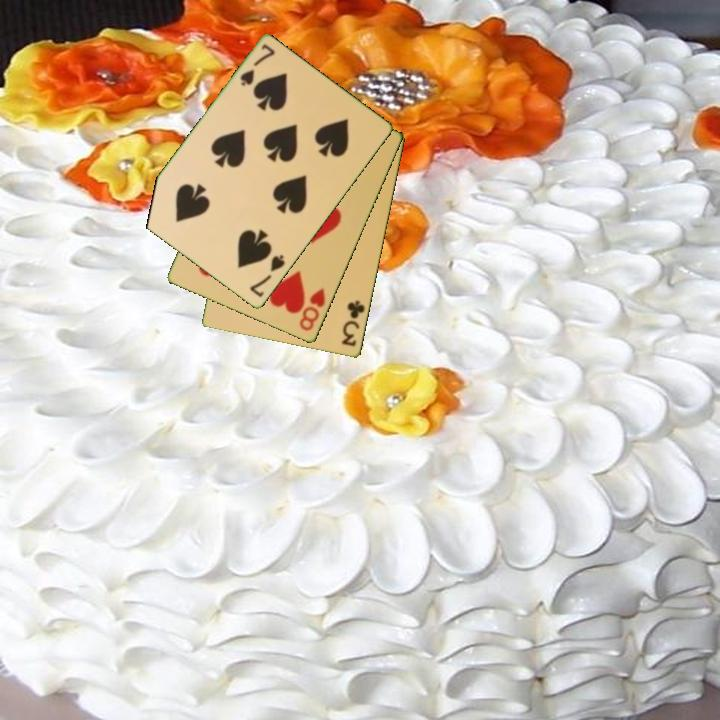3c: (338, 297, 368, 350)
7s: (246, 251, 288, 301), (236, 40, 278, 89)
8h: (296, 285, 328, 334)
